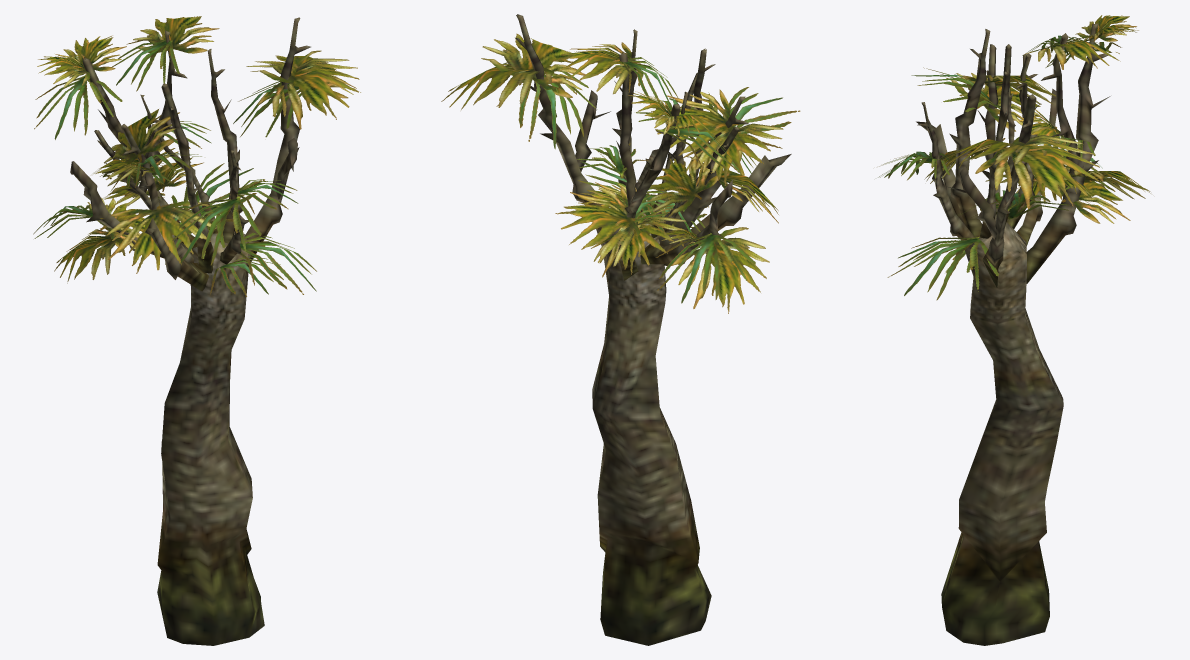
Rendered from S_Tree_Yellow049.FBX.
3 views of the same model, side by side, from view 1: azimuth 30°, elevation 25°; view 2: azimuth 150°, elevation 25°; view 3: azimuth 270°, elevation 25° (orthographic). The views are drawn at different scales.
Visible parts, largest first — view 1: S_Tree_Yellow049; view 2: S_Tree_Yellow049; view 3: S_Tree_Yellow049.
Part boxes in pixels (box(x1,y1,x2,y2)): S_Tree_Yellow049: box(33, 16, 360, 645); S_Tree_Yellow049: box(441, 14, 800, 645); S_Tree_Yellow049: box(878, 15, 1150, 645).
Bounding box in the file's own units: 508 × 413 × 834.
